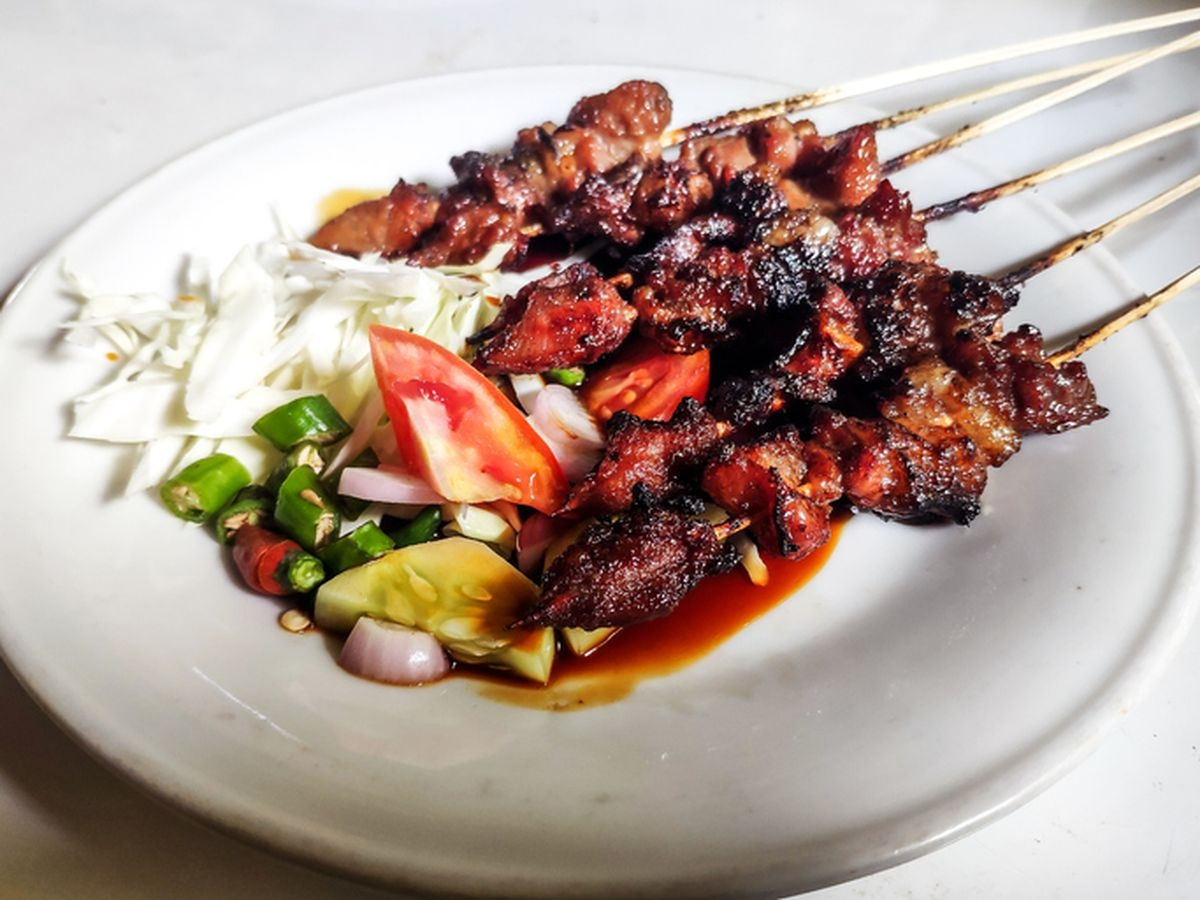sate: (522, 1, 1200, 662)
